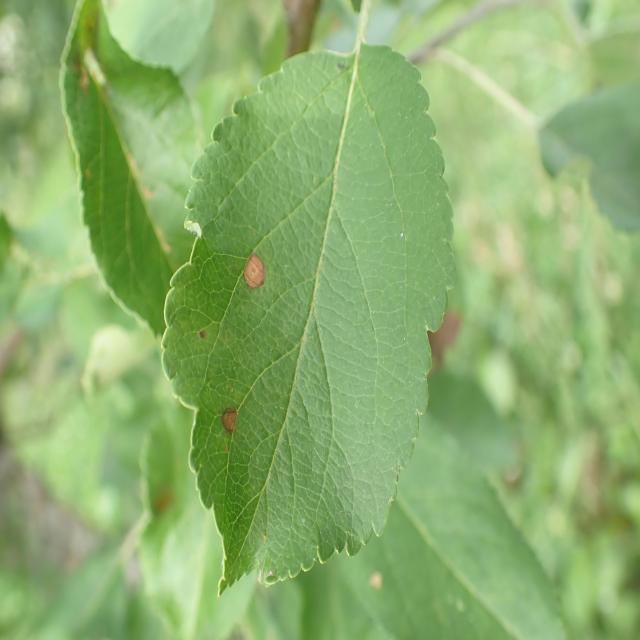Black Rot: (230, 250, 275, 313), (212, 400, 244, 450)
